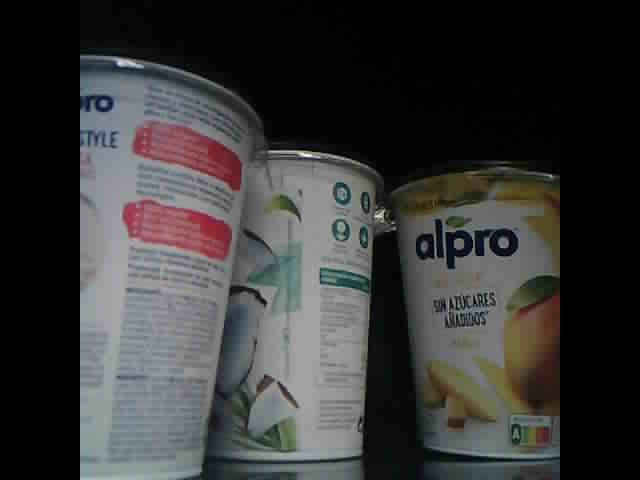alpro: (79, 43, 266, 480), (207, 143, 388, 464), (381, 158, 560, 461)
